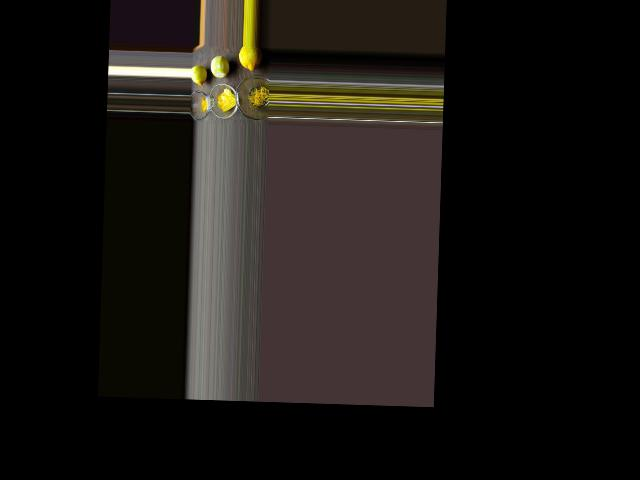lemon: (238, 47, 260, 74)
